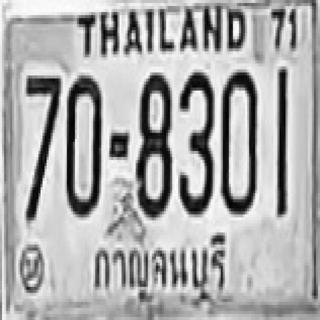N00: (65, 72, 101, 214), (220, 70, 256, 212)
N01: (275, 66, 286, 215)
N03: (177, 71, 214, 213)
N07: (23, 72, 60, 218), (24, 72, 59, 184)
N08: (136, 70, 170, 214)
P17: (89, 229, 230, 304)
